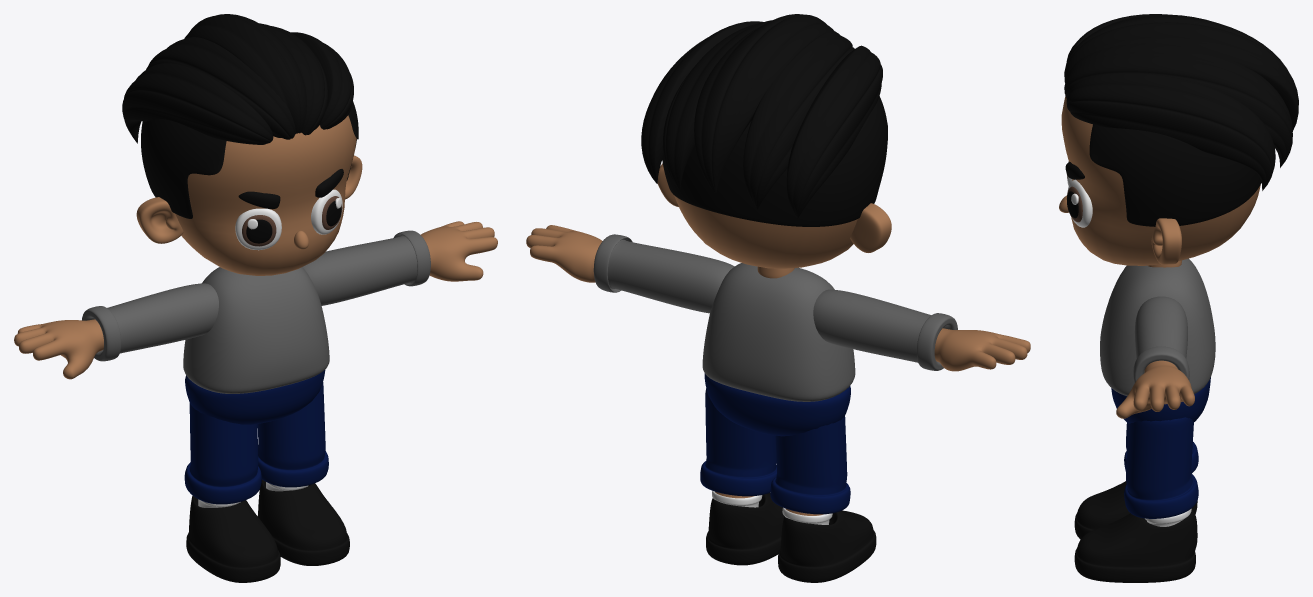
Rendered from basic.fbx.
3 views of the same model, side by side, from view 1: azimuth 30°, elevation 25°; view 2: azimuth 150°, elevation 25°; view 3: azimuth 270°, elevation 25° (orthographic). The views are drawn at different scales.
Parts seen in each view (by area): view 1: Head.007_Cylinder.017, CELANA_ATAS.024_Cube.157, BAJU_2_Cube.029, SEPATU.002_Cube.010, Cube.035_Cube.043, NurbsPath.002_NurbsPath.012, NurbsPath.001_NurbsPath.011, Head.001_Cylinder.001, NurbsPath.008_NurbsPath.002, CELANA_ATAS.001_Cube.015, TANGAN.002_Mesh.003, TANGAN.001_Mesh.001 (+5 smaller); view 2: CELANA_ATAS.024_Cube.157, BAJU_2_Cube.029, Cube.035_Cube.043, NurbsPath.001_NurbsPath.011, NurbsPath.002_NurbsPath.012, Head.001_Cylinder.001, SEPATU.002_Cube.010, NurbsPath.008_NurbsPath.002, Head.007_Cylinder.017, CELANA_ATAS.001_Cube.015, TANGAN.002_Mesh.003, TANGAN.001_Mesh.001 (+1 smaller); view 3: NurbsPath.002_NurbsPath.012, Head.001_Cylinder.001, SEPATU.002_Cube.010, Head.007_Cylinder.017, CELANA_ATAS.024_Cube.157, NurbsPath.001_NurbsPath.011, Cube.035_Cube.043, NurbsPath.008_NurbsPath.002, BAJU_2_Cube.029, TANGAN.001_Mesh.001, CELANA_ATAS.001_Cube.015, TELINGA.007_Cube.106 (+1 smaller).
Part boxes in pixels (x1,y1,x2,y2): Head.007_Cylinder.017: (175, 115, 356, 275); CELANA_ATAS.024_Cube.157: (183, 267, 329, 393); BAJU_2_Cube.029: (82, 230, 430, 361); SEPATU.002_Cube.010: (186, 479, 349, 582); Cube.035_Cube.043: (184, 382, 328, 507); NurbsPath.002_NurbsPath.012: (122, 32, 353, 144); NurbsPath.001_NurbsPath.011: (146, 23, 327, 139); Head.001_Cylinder.001: (141, 101, 358, 218); NurbsPath.008_NurbsPath.002: (184, 14, 306, 133); CELANA_ATAS.001_Cube.015: (185, 370, 325, 424); TANGAN.002_Mesh.003: (14, 319, 103, 379); TANGAN.001_Mesh.001: (420, 221, 497, 281); CELANA_ATAS.024_Cube.157: (702, 263, 855, 401); BAJU_2_Cube.029: (593, 234, 957, 370); Cube.035_Cube.043: (700, 388, 850, 524); NurbsPath.001_NurbsPath.011: (662, 20, 854, 209); NurbsPath.002_NurbsPath.012: (641, 21, 882, 218); Head.001_Cylinder.001: (662, 96, 887, 226); SEPATU.002_Cube.010: (706, 493, 876, 582); NurbsPath.008_NurbsPath.002: (694, 14, 833, 193); Head.007_Cylinder.017: (674, 195, 857, 268); CELANA_ATAS.001_Cube.015: (704, 373, 850, 436); TANGAN.002_Mesh.003: (934, 328, 1030, 371); TANGAN.001_Mesh.001: (526, 225, 602, 282); NurbsPath.002_NurbsPath.012: (1066, 14, 1275, 190); Head.001_Cylinder.001: (1089, 124, 1261, 226); SEPATU.002_Cube.010: (1074, 474, 1197, 582); Head.007_Cylinder.017: (1061, 96, 1260, 265); CELANA_ATAS.024_Cube.157: (1100, 258, 1215, 395); NurbsPath.001_NurbsPath.011: (1064, 43, 1292, 167); Cube.035_Cube.043: (1124, 417, 1198, 526); NurbsPath.008_NurbsPath.002: (1065, 14, 1298, 130); BAJU_2_Cube.029: (1133, 296, 1189, 382); TANGAN.001_Mesh.001: (1116, 360, 1194, 418); CELANA_ATAS.001_Cube.015: (1111, 377, 1210, 423); TELINGA.007_Cube.106: (1151, 218, 1181, 264).
Size of the model in its own units: 134 by 140 by 56.89.
